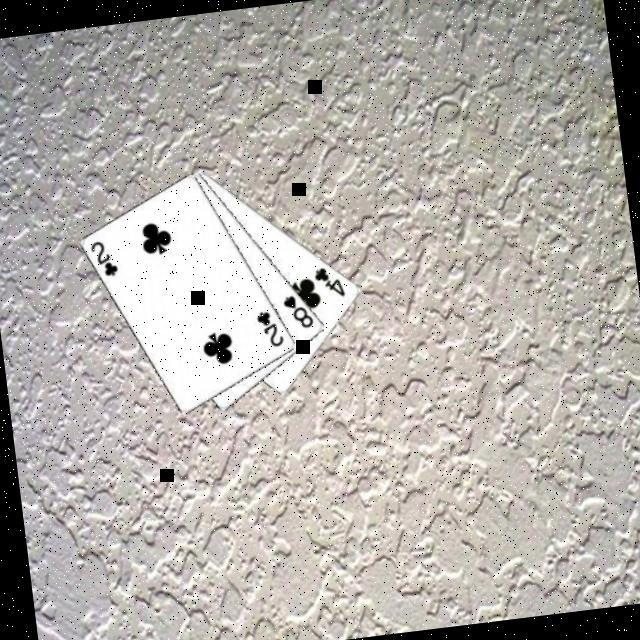2C: (253, 307, 288, 352), (87, 237, 122, 282)
4C: (311, 262, 349, 303)
8S: (280, 290, 319, 334)
